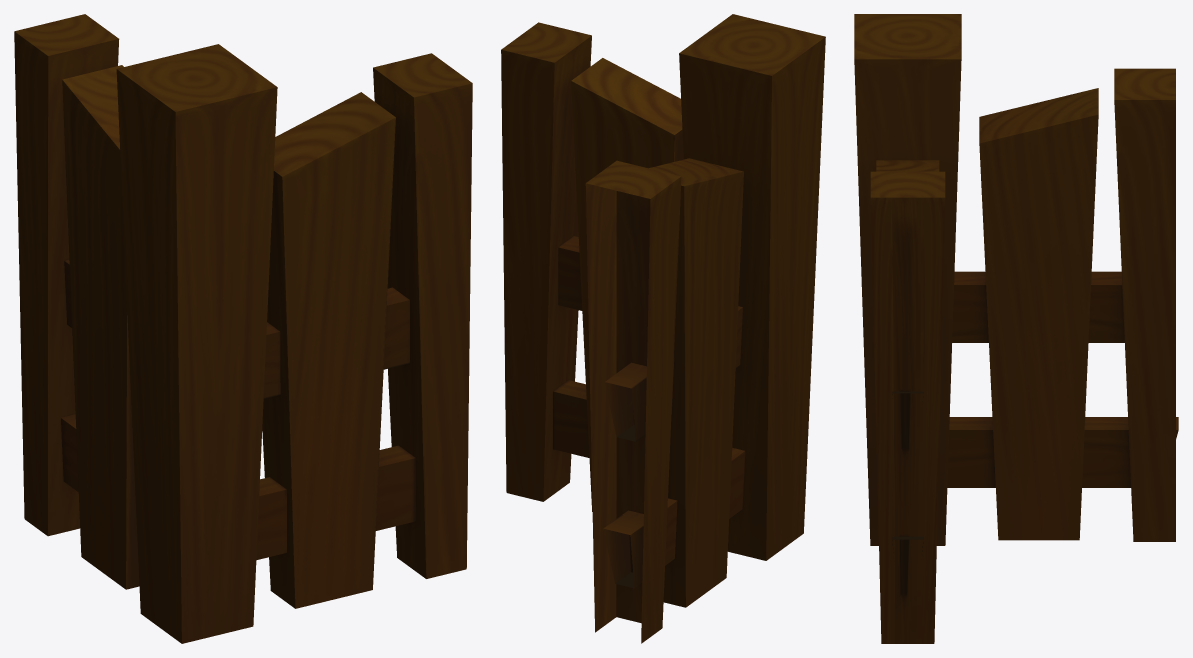
File: fence-corner.fbx
The picture shows the model from 3 angles, left to right: view 1: azimuth 30°, elevation 25°; view 2: azimuth 150°, elevation 25°; view 3: azimuth 270°, elevation 25°; orthographic projection. The views are drawn at different scales.
Visible parts, largest first — view 1: kose-parca; view 2: kose-parca; view 3: kose-parca.
Part boxes in pixels (x1,y1,x2,y2): kose-parca: [14, 14, 472, 643]; kose-parca: [501, 14, 825, 643]; kose-parca: [854, 14, 1178, 643].
Bounding box in the file's own units: 3066 × 5083 × 3025.
Materials: 1 (1 with a texture image).
